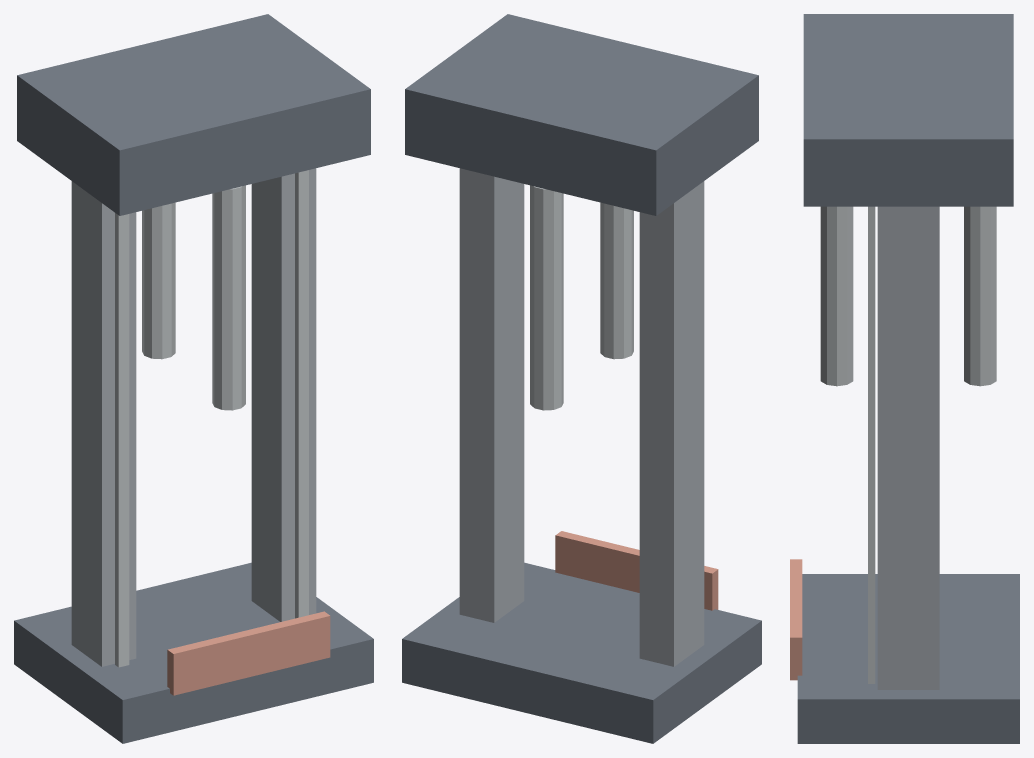
The model's file is prensa_estructura.glb.
The picture shows the model from 3 angles, left to right: view 1: azimuth 30°, elevation 25°; view 2: azimuth 150°, elevation 25°; view 3: azimuth 270°, elevation 25°; orthographic projection. The views are drawn at different scales.
Visible parts, largest first — view 1: prensa_estructura; view 2: prensa_estructura; view 3: prensa_estructura.
Part boxes in pixels (left/top/right/bottom): prensa_estructura: left=14, top=14, right=373, bottom=743; prensa_estructura: left=402, top=14, right=761, bottom=743; prensa_estructura: left=790, top=14, right=1019, bottom=743.
Bounding box in the file's own units: 2.4 × 5.4 × 1.86.
